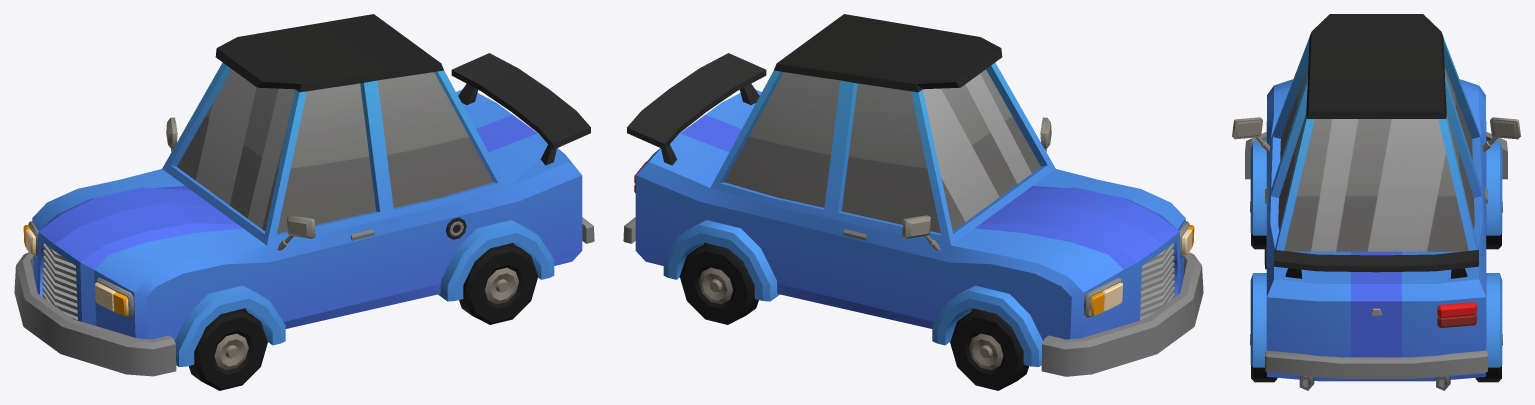
The model's file is Car_2_K.gltf.
The picture shows the model from 3 angles, left to right: view 1: azimuth 30°, elevation 25°; view 2: azimuth 150°, elevation 25°; view 3: azimuth 270°, elevation 25°; orthographic projection.
Parts seen in each view (by area): view 1: Car_2_K, RL, FL; view 2: Car_2_K, RR, FR; view 3: Car_2_K, RL, RR.
Part boxes in pixels (x1,y1,x2,y2): Car_2_K: [14, 14, 594, 376]; RL: [459, 243, 538, 324]; FL: [188, 309, 267, 390]; Car_2_K: [623, 14, 1203, 376]; RR: [679, 243, 758, 324]; FR: [950, 309, 1029, 390]; Car_2_K: [1232, 14, 1520, 390]; RL: [1250, 334, 1277, 382]; RR: [1475, 334, 1502, 382].
Size of the model in its own units: 3.64 by 1.8 by 1.78.
Materials: 4 (4 with a texture image).
